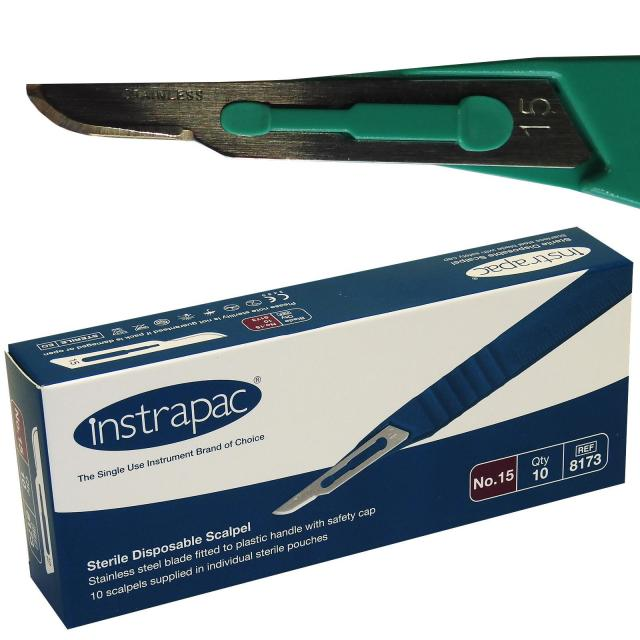B3: (21, 54, 640, 209), (269, 263, 629, 524)
